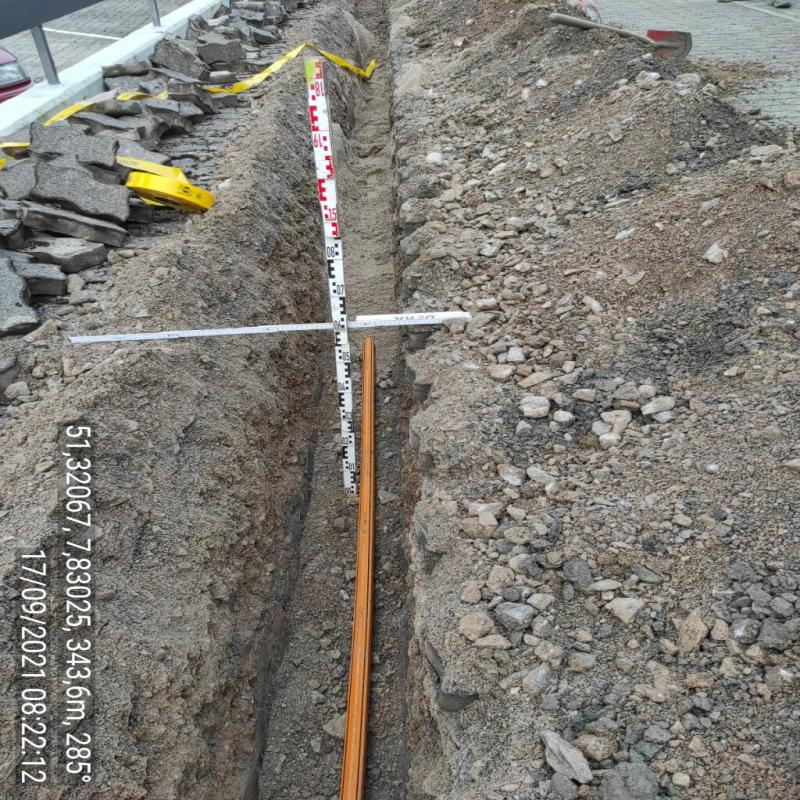Orang-Speednetrohrchen: (341, 340, 374, 800)
